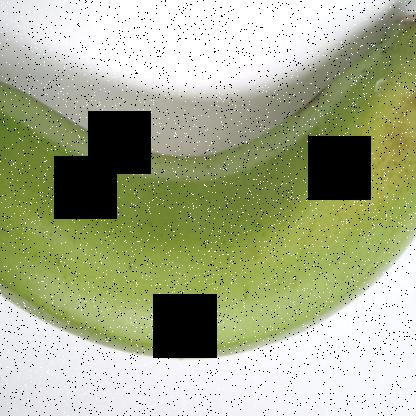freshunripe: (1, 0, 415, 373)
